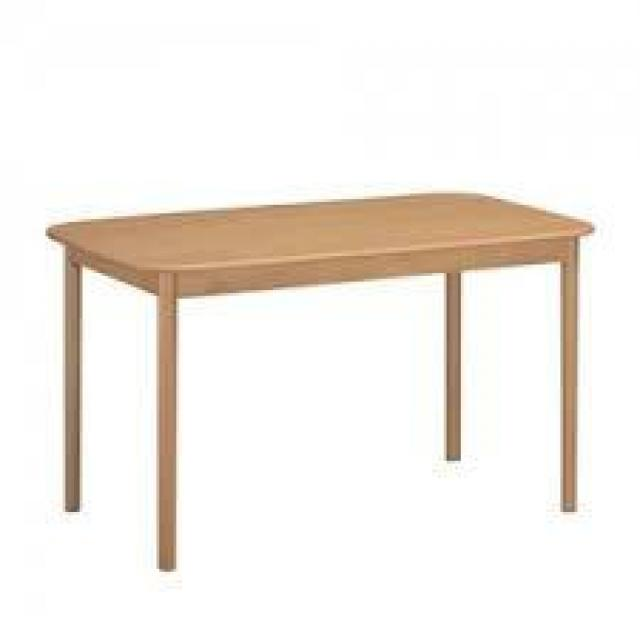table: (48, 132, 603, 593)
